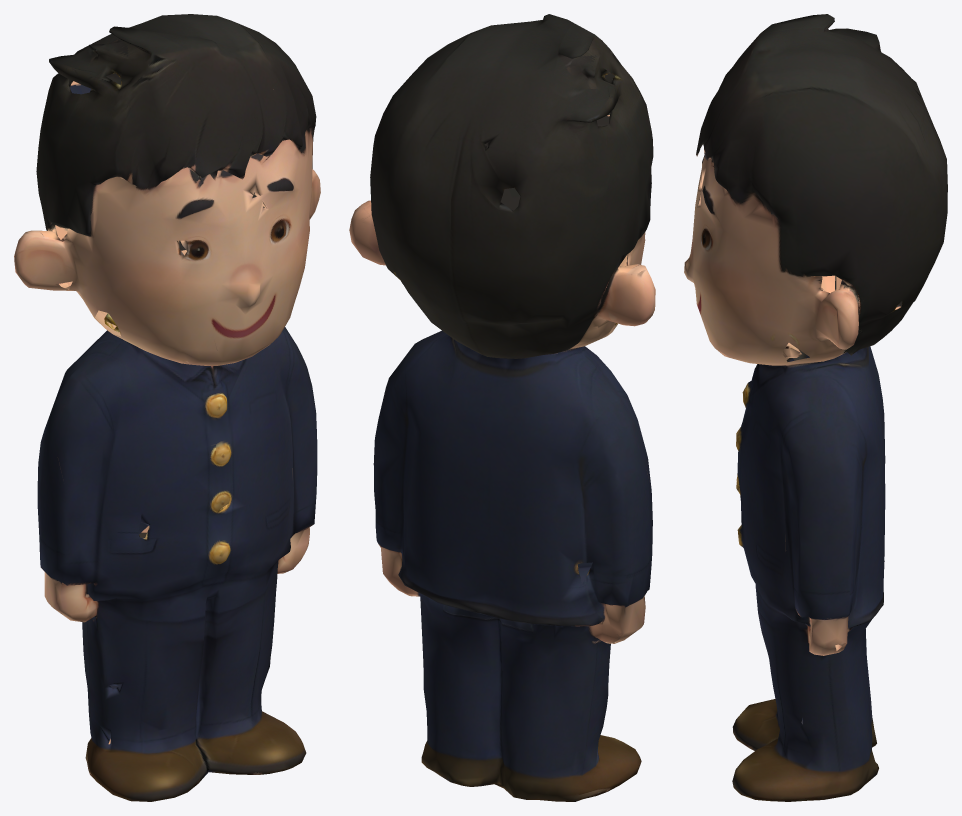
File: student.glb
3 views of the same model, side by side, from view 1: azimuth 30°, elevation 25°; view 2: azimuth 150°, elevation 25°; view 3: azimuth 270°, elevation 25° (orthographic). The views are drawn at different scales.
Bounding box in the file's own units: 28236 × 65464 × 21963.
Materials: 1 (1 with a texture image).
